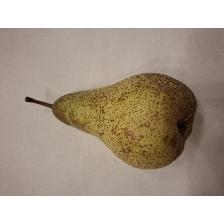Birne: (22, 67, 204, 173)
